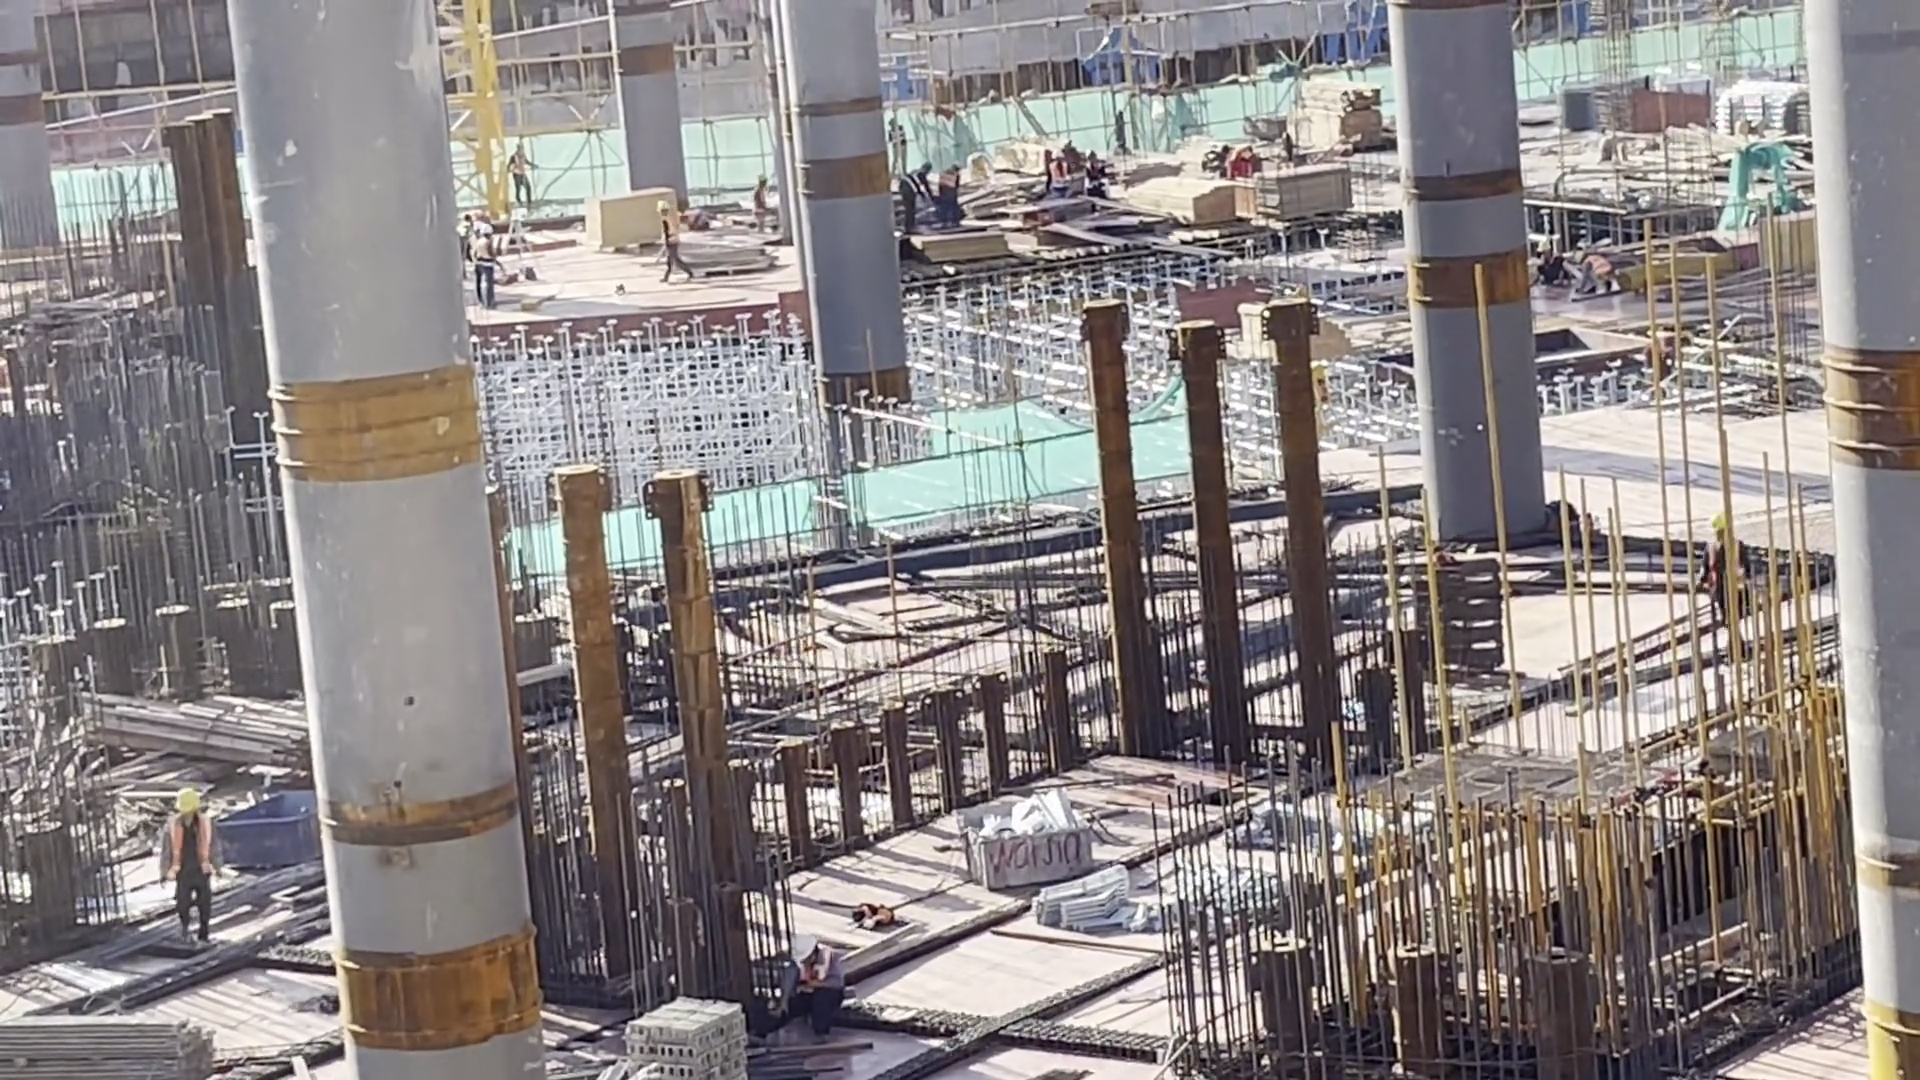helmet: (785, 927, 815, 960), (171, 786, 202, 813)
hopper: (955, 779, 1096, 893), (218, 780, 337, 895)
person: (1685, 509, 1770, 645), (160, 780, 229, 927), (647, 195, 708, 301), (779, 930, 842, 1024), (895, 146, 934, 249), (461, 216, 501, 304), (1573, 243, 1625, 309), (1518, 234, 1567, 293), (501, 133, 541, 204), (941, 153, 970, 237), (742, 172, 771, 233)
vest: (165, 815, 215, 874), (650, 213, 685, 246), (468, 238, 493, 268)
wood: (1, 1015, 210, 1075)
